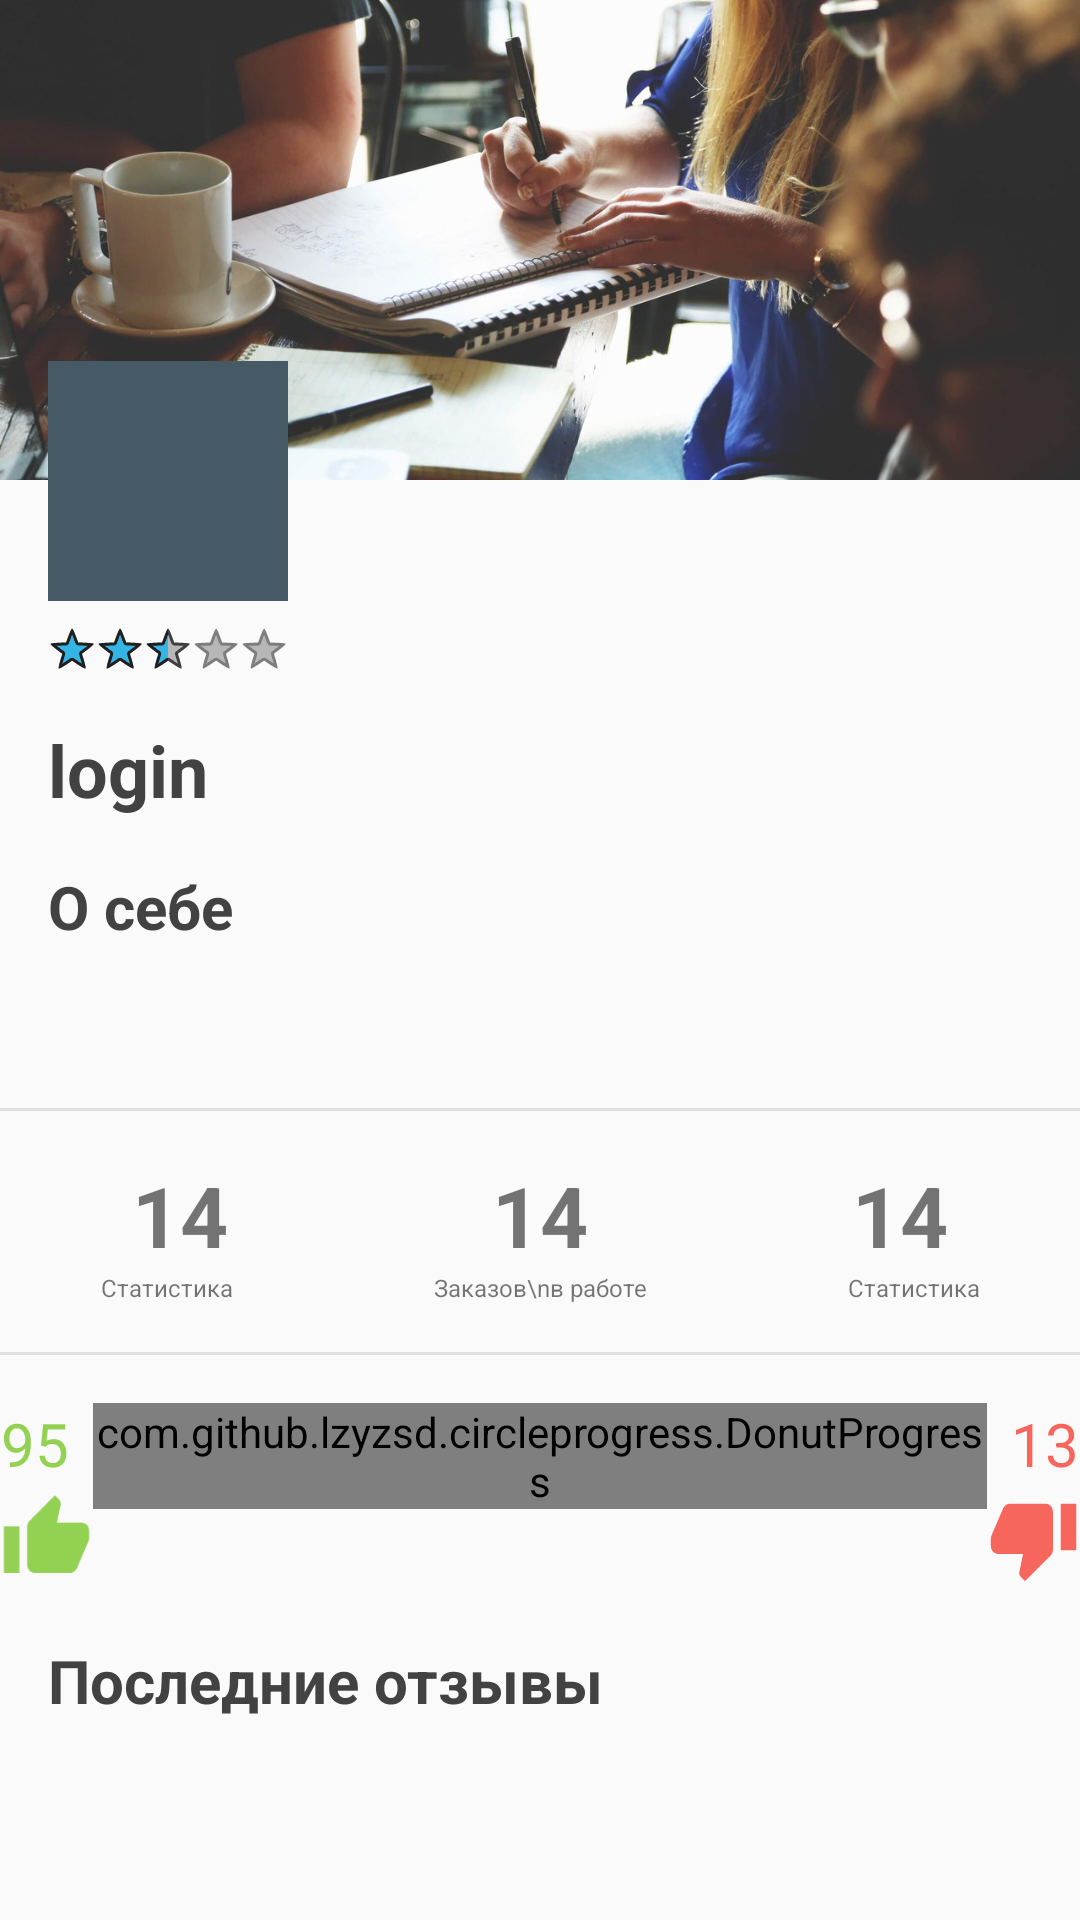

Icon click points for this 1080 × 1920 phone screenshot, format (x,y):
thumb down: (1033,1542)
thumb up: (46,1534)
